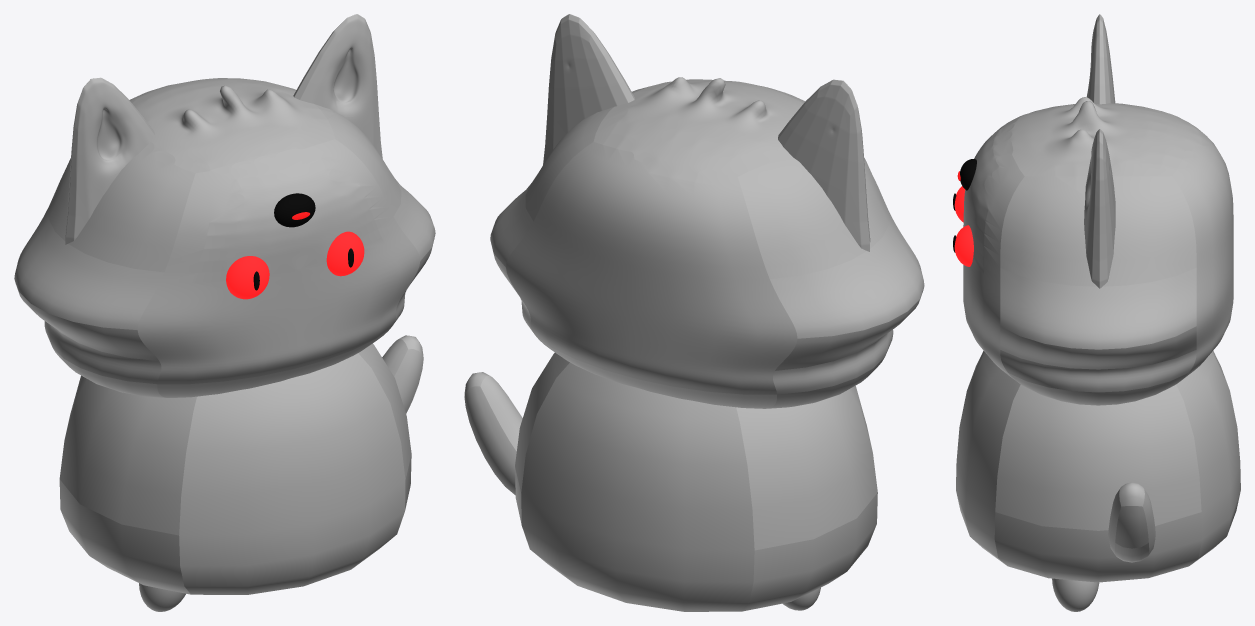
File: 01_cat.fbx
3 views of the same model, side by side, from view 1: azimuth 30°, elevation 25°; view 2: azimuth 150°, elevation 25°; view 3: azimuth 270°, elevation 25° (orthographic). The views are drawn at different scales.
Parts seen in each view (by area): view 1: Cube.001, Cube, Cube.003, Sphere.001, Cube.002, Sphere.002, Sphere.003; view 2: Cube.001, Cube, Cube.003, Cube.002; view 3: Cube.001, Cube, Cube.003, Cube.002, Sphere, Sphere.001.
Part boxes in pixels (x1,y1,x2,y2): Cube.001: [14, 78, 435, 397]; Cube: [59, 343, 411, 594]; Cube.003: [65, 14, 382, 244]; Sphere.001: [226, 231, 364, 299]; Cube.002: [382, 335, 423, 413]; Sphere.002: [274, 193, 315, 227]; Sphere.003: [139, 583, 185, 611]; Cube.001: [490, 77, 924, 408]; Cube: [515, 352, 877, 611]; Cube.003: [543, 14, 870, 251]; Cube.002: [464, 372, 522, 495]; Cube.001: [963, 97, 1233, 405]; Cube: [956, 350, 1240, 582]; Cube.003: [1084, 14, 1115, 288]; Cube.002: [1108, 482, 1155, 562]; Sphere: [1052, 578, 1099, 611]; Sphere.001: [954, 186, 973, 266].
Size of the model in its own units: 185 by 231 by 124.
